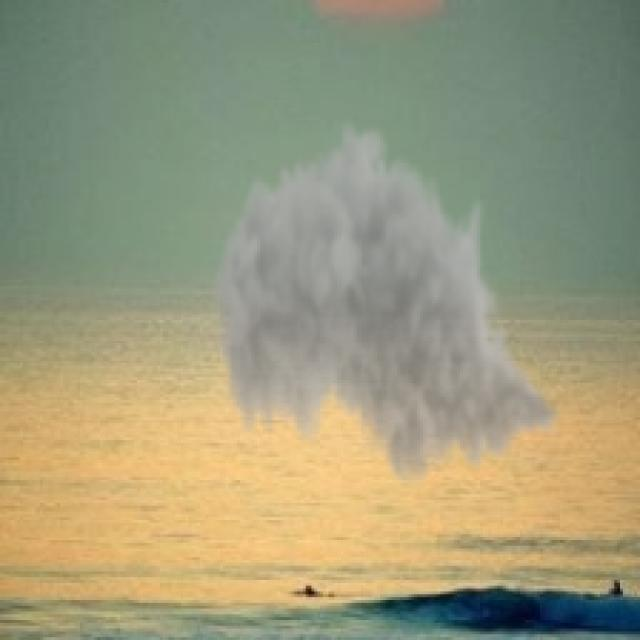Smoke: (208, 112, 563, 497)
